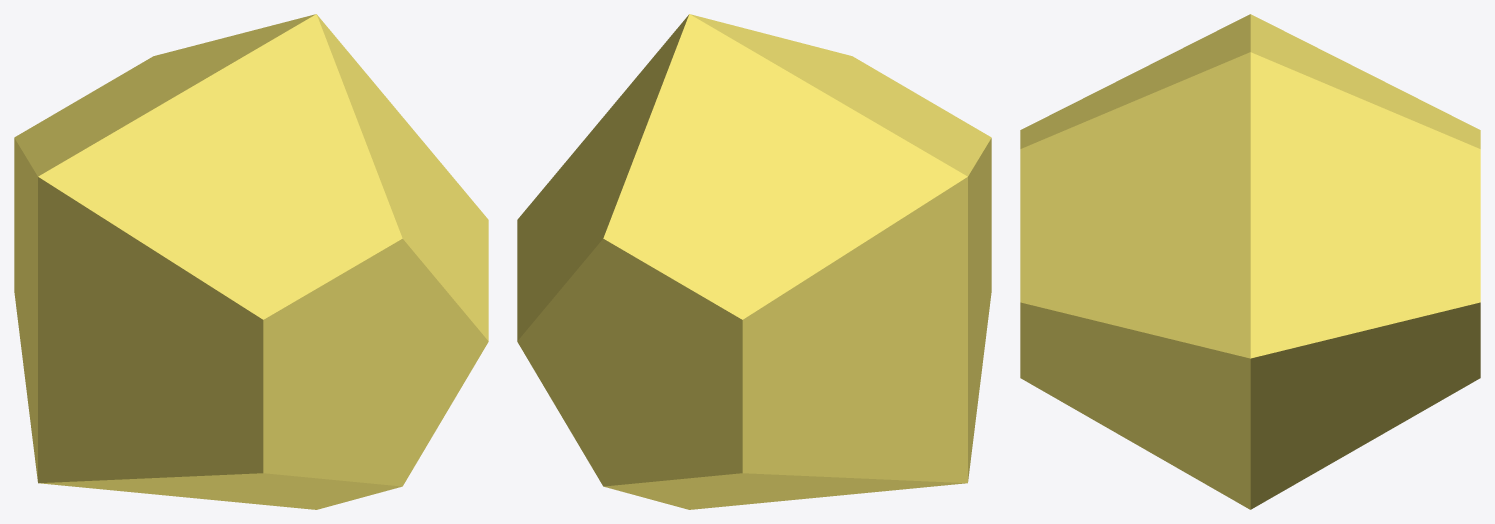
File: directional-lights.gltf
3 renders of one model, left to right at view 1: azimuth 30°, elevation 25°; view 2: azimuth 150°, elevation 25°; view 3: azimuth 270°, elevation 25°, orthographic. The views are drawn at different scales.
Parts seen in each view (by area): view 1: node_0; view 2: node_0; view 3: node_0.
Boxes of the visible parts, left/top/right/bottom form: node_0: left=14, top=14, right=488, bottom=509; node_0: left=517, top=14, right=991, bottom=509; node_0: left=1020, top=14, right=1480, bottom=509.
Size of the model in its own units: 1.81 by 1.9 by 1.73.
